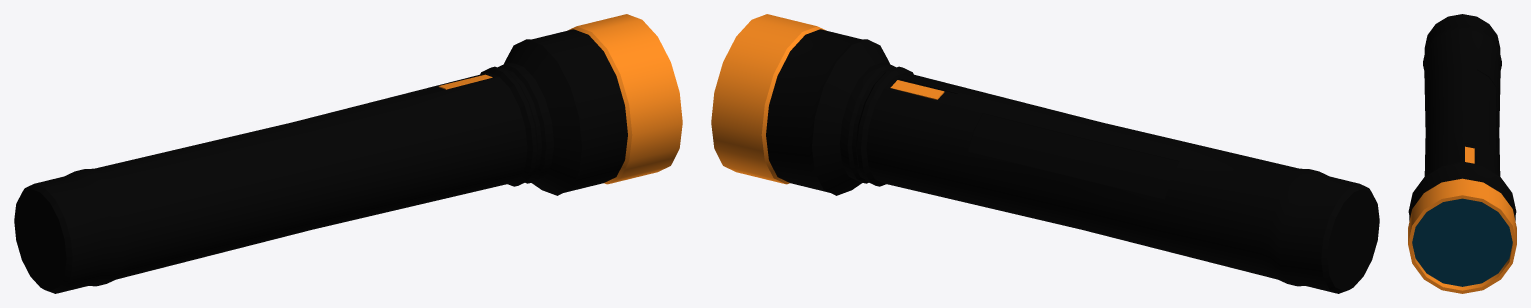
Rendered from FlashLight.fbx.
The picture shows the model from 3 angles, left to right: view 1: azimuth 30°, elevation 25°; view 2: azimuth 150°, elevation 25°; view 3: azimuth 270°, elevation 25°; orthographic projection. The views are drawn at different scales.
Parts seen in each view (by area): view 1: FlashLight; view 2: FlashLight; view 3: FlashLight.
Part boxes in pixels (x1,y1,x2,y2): FlashLight: (14,14,682,293); FlashLight: (711,14,1379,293); FlashLight: (1408,14,1516,293).
Bounding box in the file's own units: 404 × 94.05 × 94.05.
